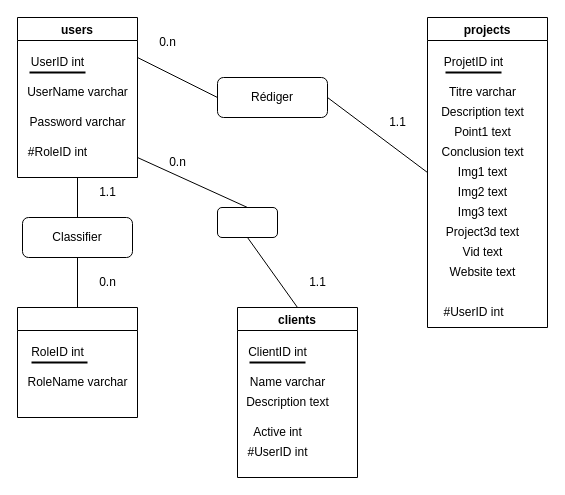
Image size: 565x495. Some labels were removed from this diagram. Here are the shapes that lost their labels. From the top down, the box of each, then its label:
(216, 206, 278, 238): Creer
(16, 306, 138, 418): roles
